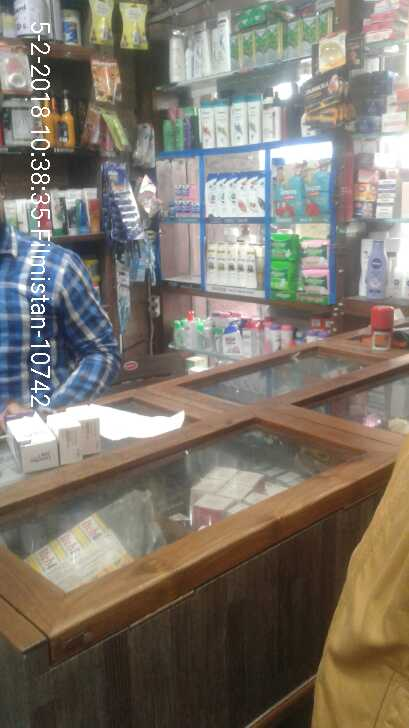vicks: (167, 184, 198, 217)
